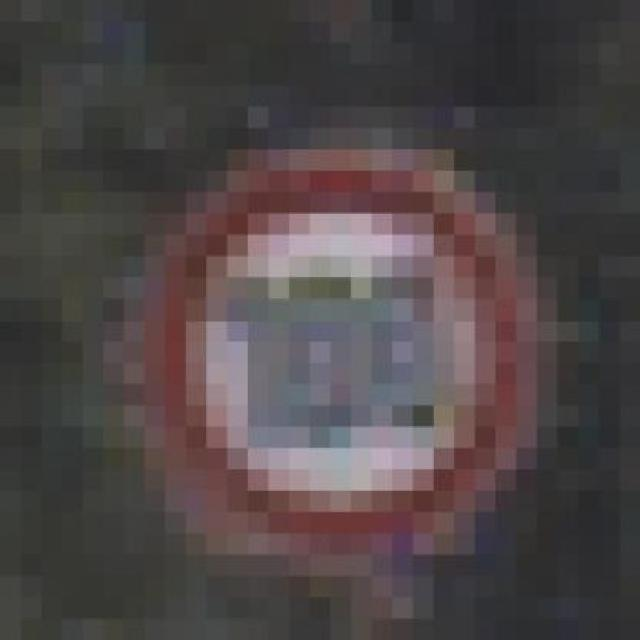forb_speed_over_100: (157, 157, 528, 546)
